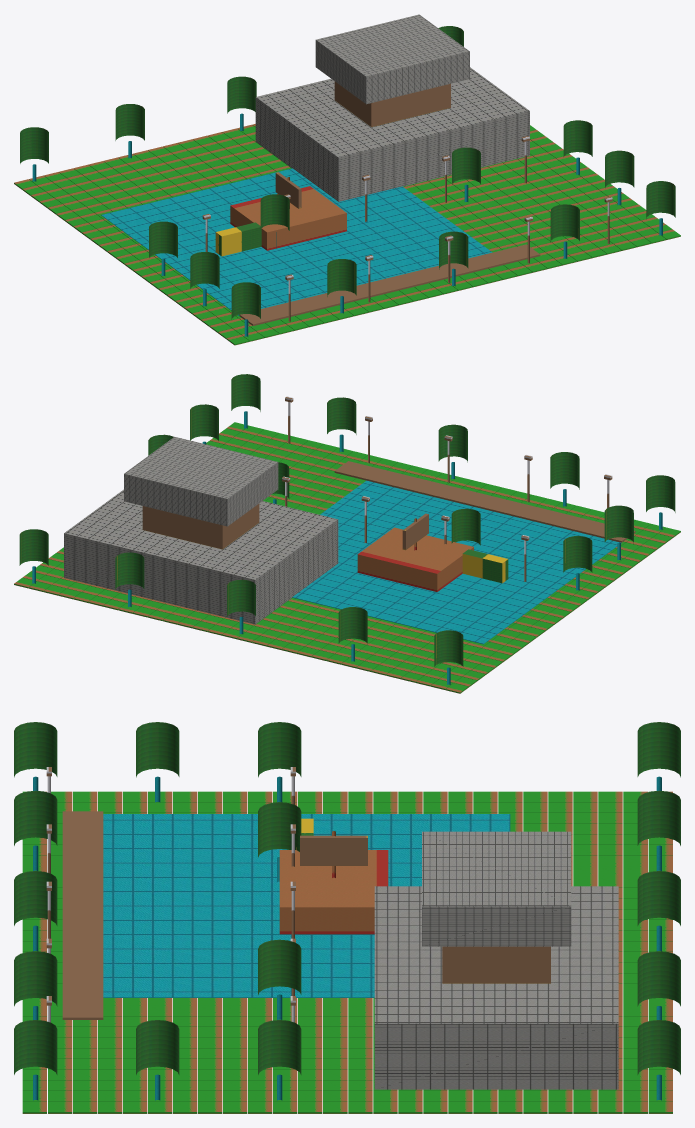
3 renders of one model, top to bottom at view 1: azimuth 30°, elevation 25°; view 2: azimuth 150°, elevation 25°; view 3: azimuth 270°, elevation 25°, orthographic. The views are drawn at different scales.
Parts seen in each view (by area): view 1: 28185_B46_Neungheodae_Historic_Park; view 2: 28185_B46_Neungheodae_Historic_Park; view 3: 28185_B46_Neungheodae_Historic_Park.
Boxes of the visible parts, <box> form: 28185_B46_Neungheodae_Historic_Park: <box>14,14,680,345</box>; 28185_B46_Neungheodae_Historic_Park: <box>14,374,680,693</box>; 28185_B46_Neungheodae_Historic_Park: <box>14,722,680,1113</box>.
Bounding box in the file's own units: 55.95 × 12.5 × 49.2.
1 material, 1 textured.
